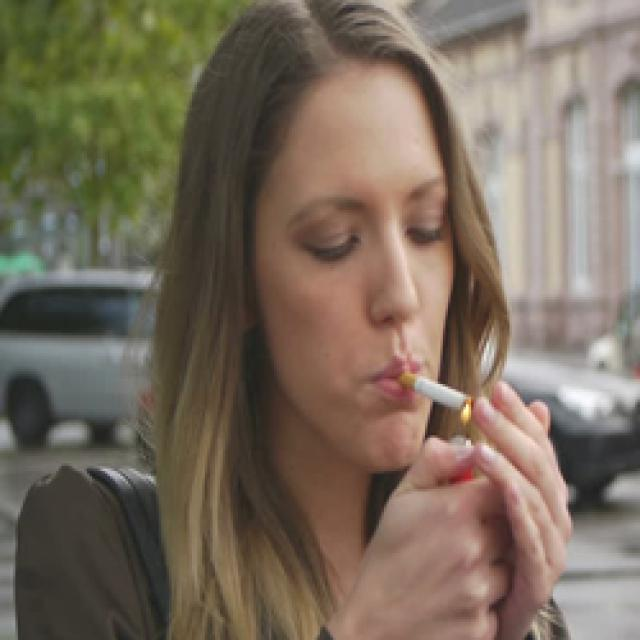Smooking: (402, 357, 470, 430)
